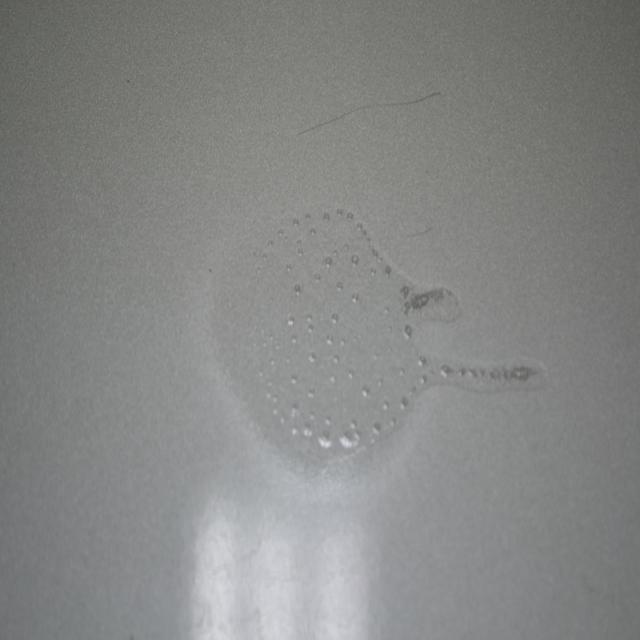runs: (223, 203, 551, 458)
scratch: (296, 80, 448, 141)
